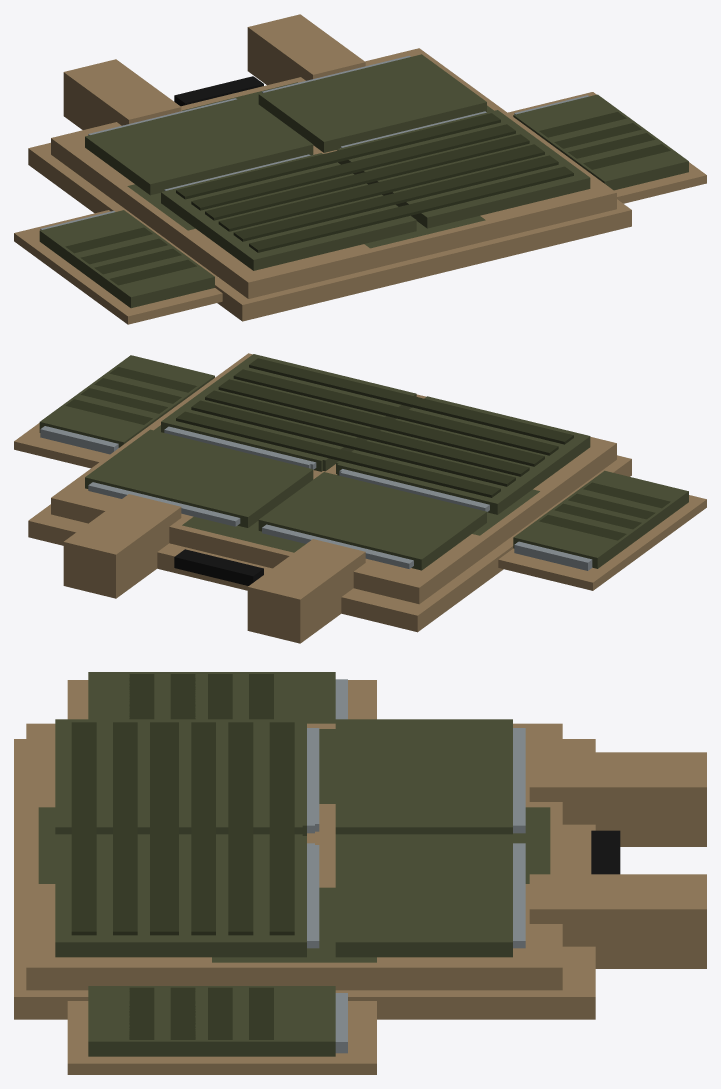
The model's file is xl_ballistic_vest_lc.glb.
3 views of the same model, one above another, from view 1: azimuth 30°, elevation 25°; view 2: azimuth 150°, elevation 25°; view 3: azimuth 270°, elevation 25° (orthographic). The views are drawn at different scales.
Visible parts, largest first — view 1: xl_ballistic_vest_lc:compound; view 2: xl_ballistic_vest_lc:compound; view 3: xl_ballistic_vest_lc:compound.
Part boxes in pixels (left/top/right/bottom): xl_ballistic_vest_lc:compound: left=14, top=14, right=706, bottom=324; xl_ballistic_vest_lc:compound: left=14, top=353, right=706, bottom=643; xl_ballistic_vest_lc:compound: left=14, top=672, right=706, bottom=1074.
Bounding box in the file's own units: 0.88 × 0.068 × 0.672.
